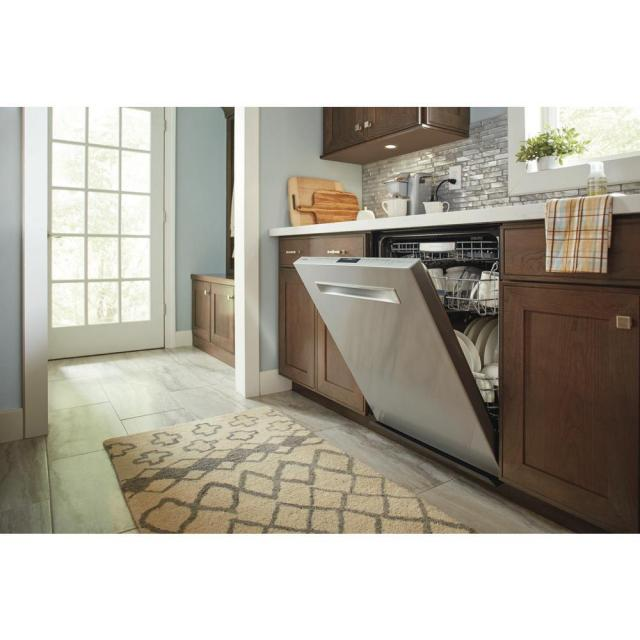dishwasher: (288, 218, 520, 489)
